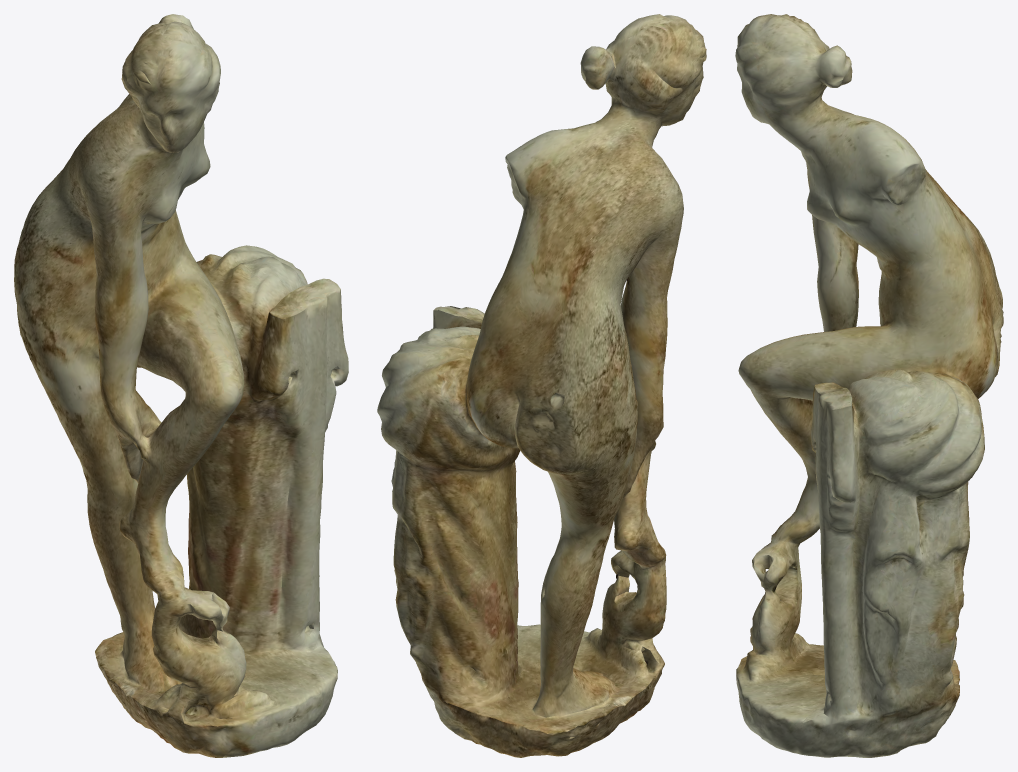
File: preview.glb
3 renders of one model, left to right at view 1: azimuth 30°, elevation 25°; view 2: azimuth 150°, elevation 25°; view 3: azimuth 270°, elevation 25°, orthographic. The views are drawn at different scales.
Visible parts, largest first — view 1: Object_4; view 2: Object_4; view 3: Object_4.
Boxes of the visible parts, left/top/right/bottom form: Object_4: left=14, top=14, right=348, bottom=757; Object_4: left=377, top=14, right=706, bottom=757; Object_4: left=735, top=14, right=1003, bottom=757.
Bounding box in the file's own units: 0.0968 × 0.2518 × 0.0913.
Materials: 1 (1 with a texture image).
